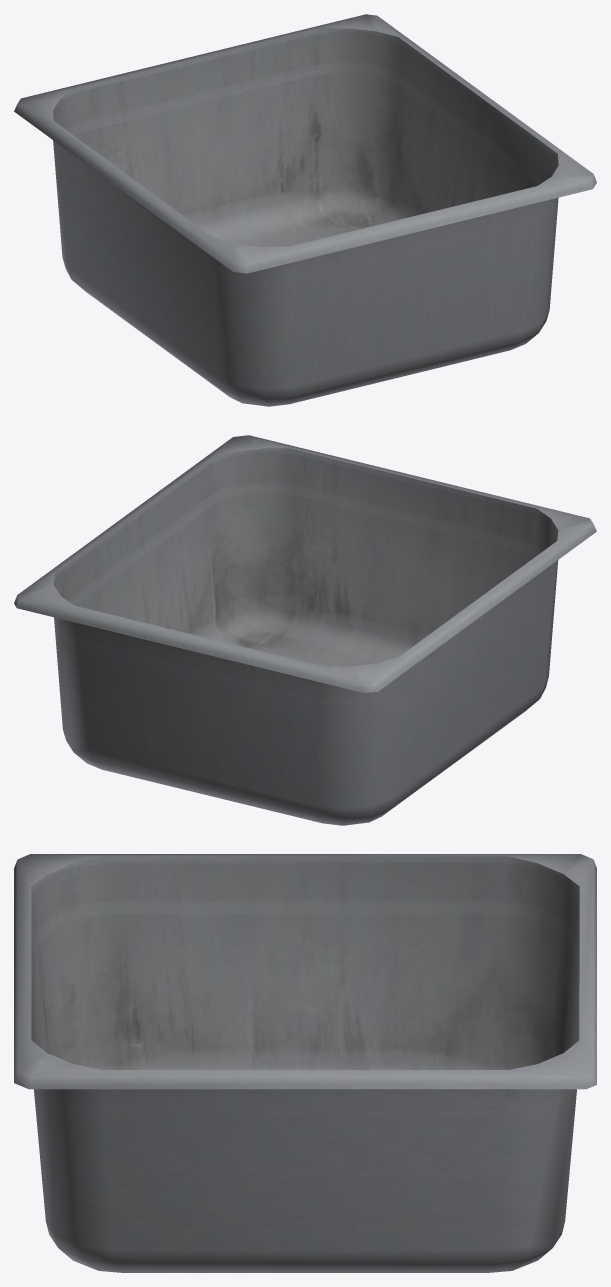
The model's file is SM_Hotel_Pan150_2_3_01.glb.
3 renders of one model, top to bottom at view 1: azimuth 30°, elevation 25°; view 2: azimuth 150°, elevation 25°; view 3: azimuth 270°, elevation 25°, orthographic. The views are drawn at different scales.
Parts seen in each view (by area): view 1: SM_Hotel_Pan150_2_3_01; view 2: SM_Hotel_Pan150_2_3_01; view 3: SM_Hotel_Pan150_2_3_01.
Part boxes in pixels (<box>): SM_Hotel_Pan150_2_3_01: <box>14,14,596,406</box>; SM_Hotel_Pan150_2_3_01: <box>14,435,596,825</box>; SM_Hotel_Pan150_2_3_01: <box>14,854,596,1272</box>.
Bounding box in the file's own units: 0.325 × 0.1492 × 0.3541.
1 material, 1 textured.
